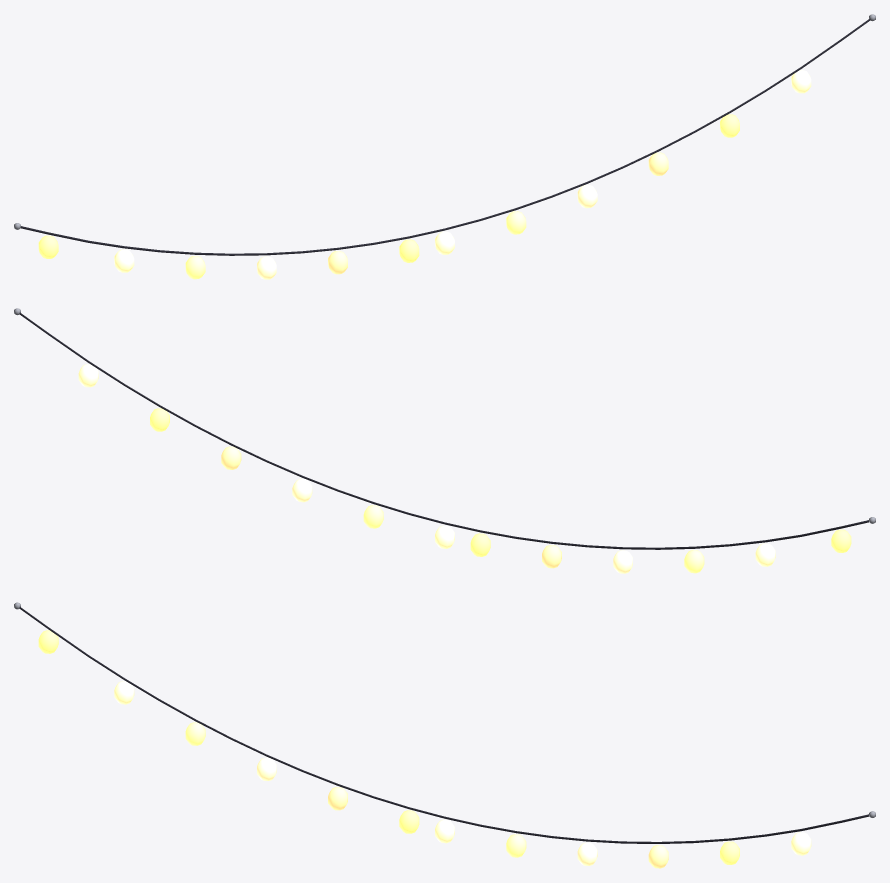
Rendered from party_bulbs.glb.
3 views of the same model, one above another, from view 1: azimuth 30°, elevation 25°; view 2: azimuth 150°, elevation 25°; view 3: azimuth 330°, elevation 25° (orthographic).
Visible parts, largest first — view 1: bulbs, party_bulbs; view 2: bulbs, party_bulbs; view 3: bulbs, party_bulbs.
Part boxes in pixels (box(x1,y1,x2,y2)): bulbs: box(38, 70, 811, 279); party_bulbs: box(14, 14, 875, 255); bulbs: box(78, 364, 851, 573); party_bulbs: box(14, 308, 875, 549); bulbs: box(38, 630, 811, 868); party_bulbs: box(14, 602, 875, 843).
Size of the model in its own units: 5.03 by 0.7603 by 0.1046.
